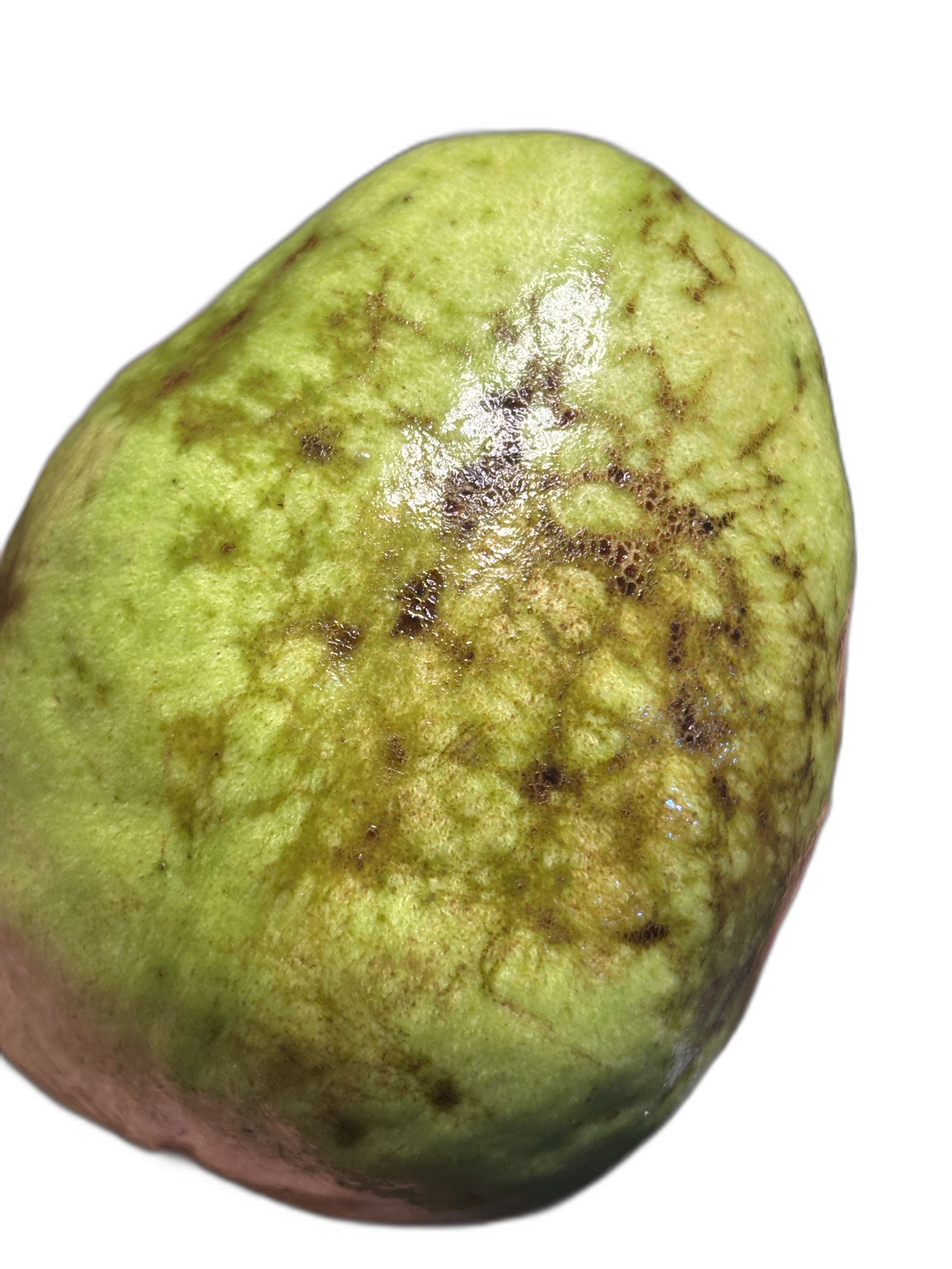guava: (116, 188, 850, 1159)
